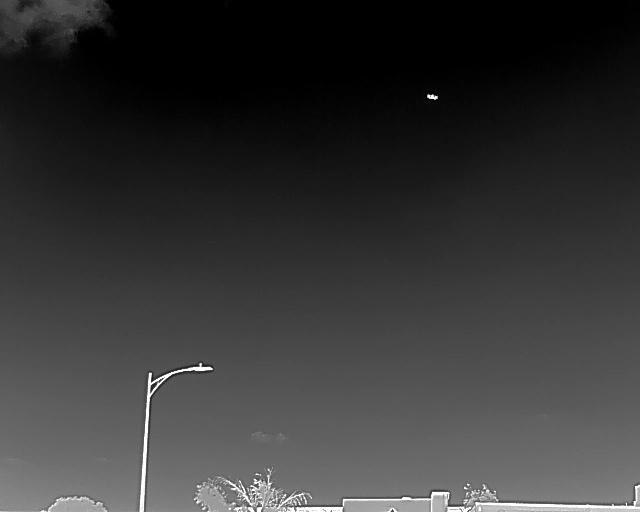fpv-drone: (425, 93, 438, 100)
